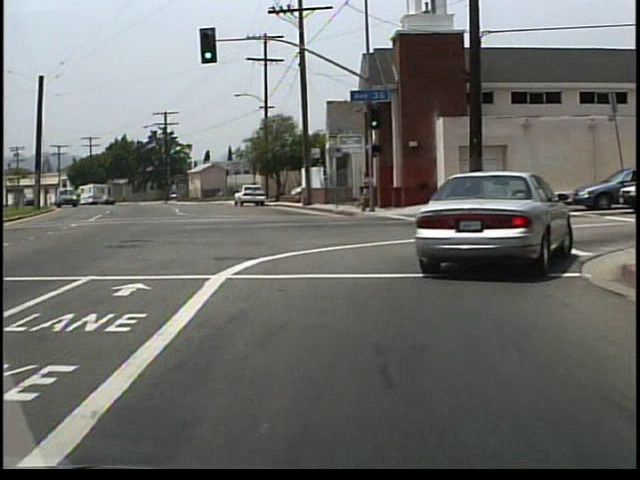person: (356, 172, 372, 213)
